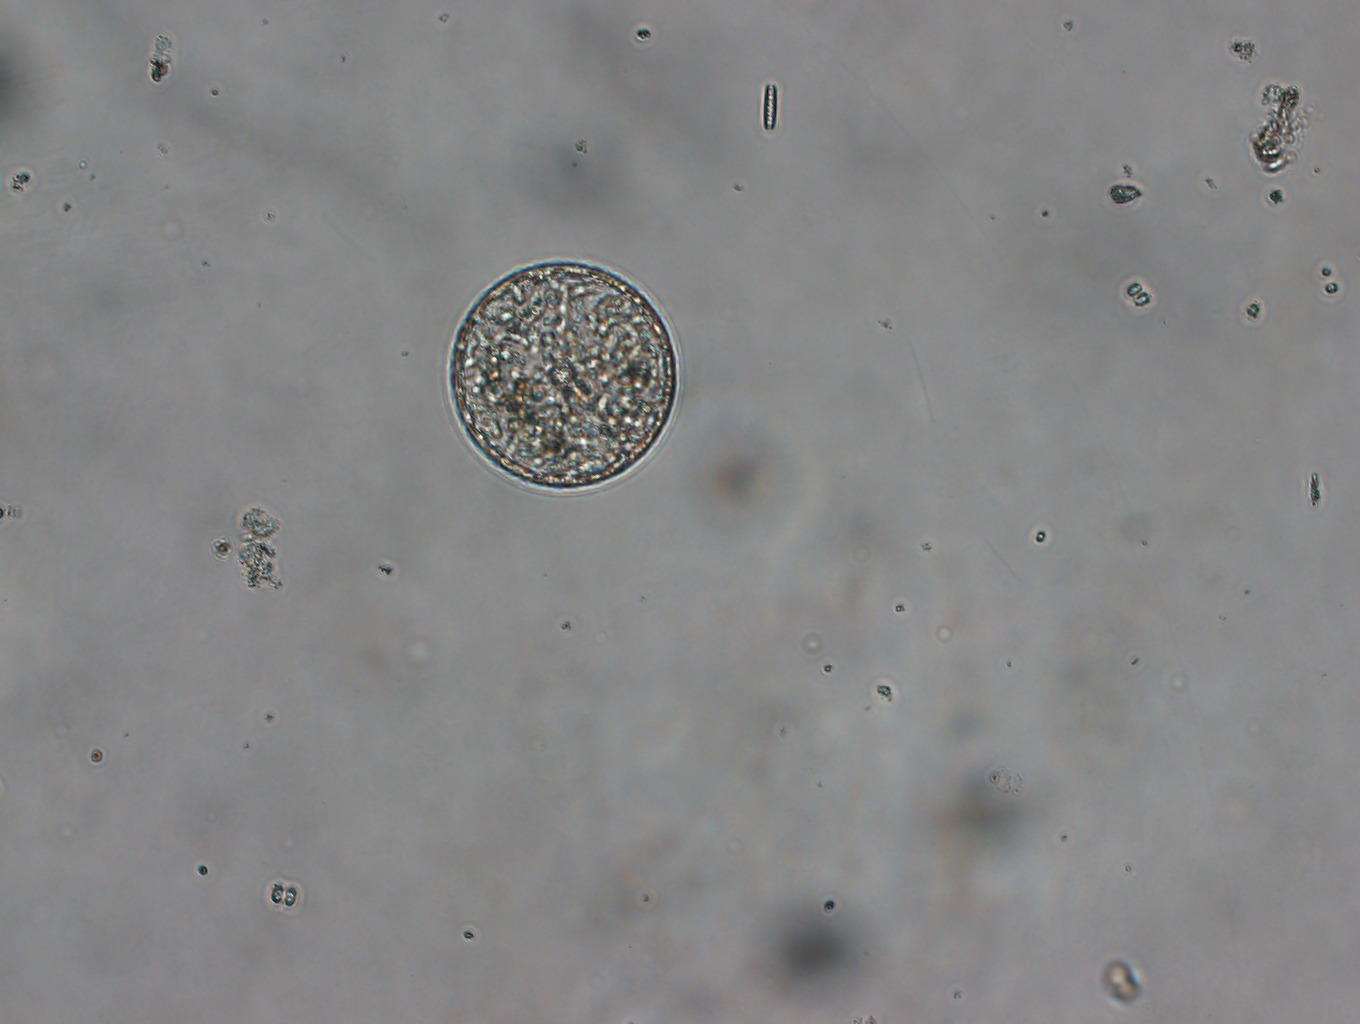coscinodiscus: (443, 256, 684, 496)
